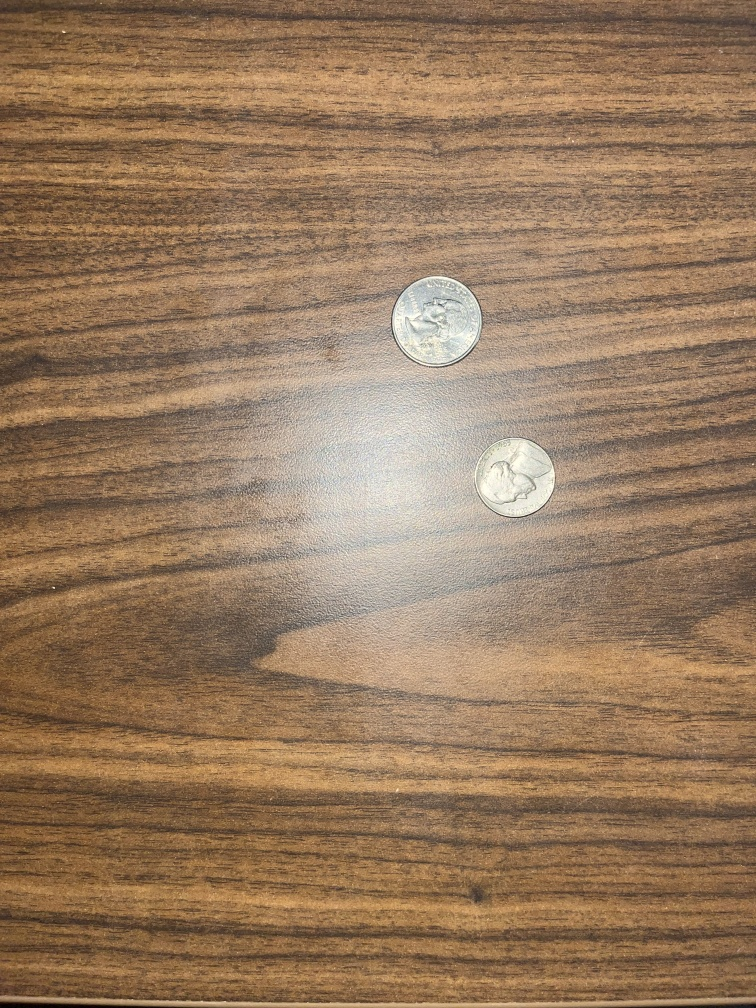nickel: (468, 430, 562, 526)
quarter: (386, 271, 489, 372)
